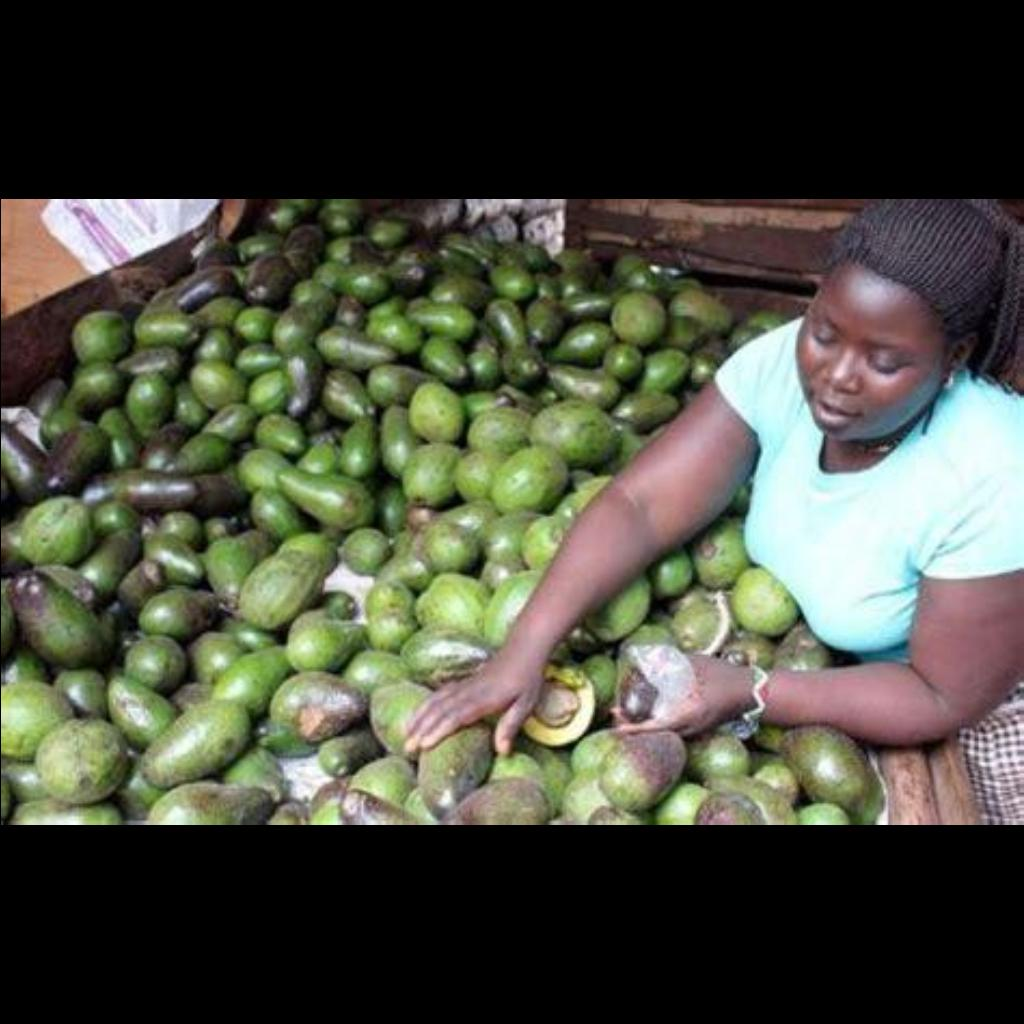antracnosis_fruto: (398, 750, 541, 826), (584, 717, 692, 803), (0, 560, 102, 649), (268, 668, 365, 737), (95, 463, 203, 523), (186, 266, 298, 298)
